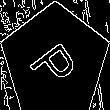P_NE: (25, 31, 85, 91)
